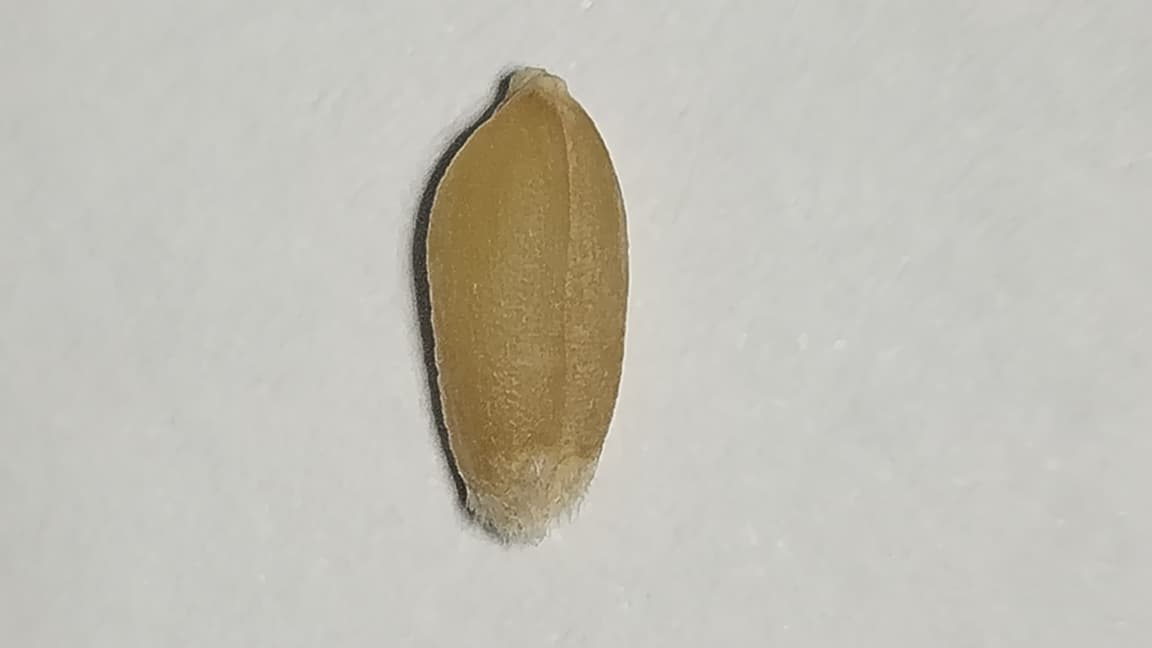healthy: (423, 68, 629, 541)
